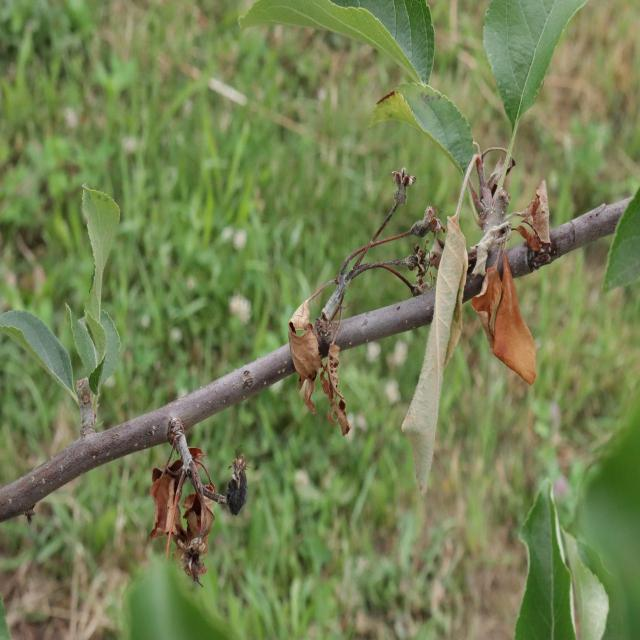-FireBlight-: (438, 149, 550, 381), (138, 424, 244, 582), (288, 291, 359, 442)
